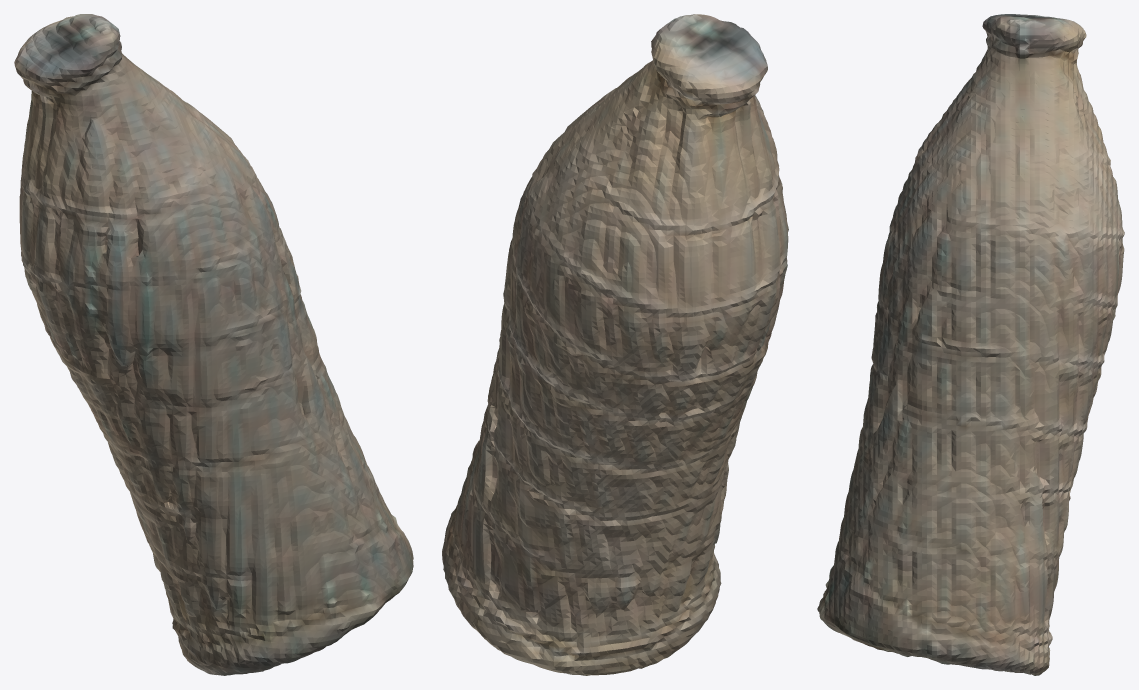
File: papua.glb
3 renders of one model, left to right at view 1: azimuth 30°, elevation 25°; view 2: azimuth 150°, elevation 25°; view 3: azimuth 270°, elevation 25°, orthographic. The views are drawn at different scales.
Parts seen in each view (by area): view 1: world; view 2: world; view 3: world.
Part boxes in pixels (left/top/right/bottom): world: left=14, top=14, right=413, bottom=675; world: left=442, top=14, right=788, bottom=675; world: left=817, top=14, right=1124, bottom=675.
Bounding box in the file's own units: 0.496 × 0.9185 × 0.4286.
